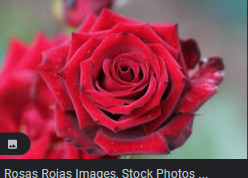RedRose: (53, 10, 215, 152)
